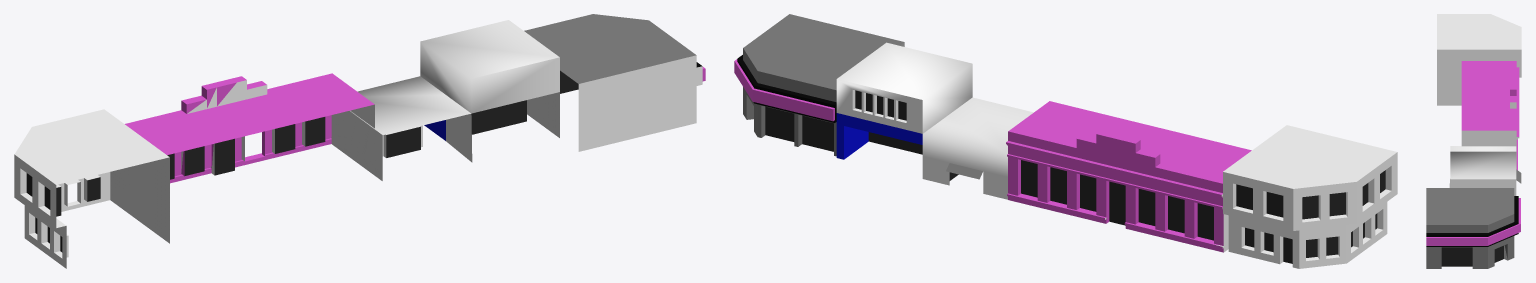
File: Cuadra-2-Derecha.fbx
3 views of the same model, side by side, from view 1: azimuth 30°, elevation 25°; view 2: azimuth 150°, elevation 25°; view 3: azimuth 270°, elevation 25° (orthographic). The views are drawn at different scales.
Parts seen in each view (by area): view 1: Plane4; view 2: Plane4; view 3: Plane4.
Boxes of the visible parts, <box> form: Plane4: <box>14,14,705,268</box>; Plane4: <box>734,14,1397,268</box>; Plane4: <box>1426,14,1521,268</box>.
Bounding box in the file's own units: 8689 × 1182 × 1732.
